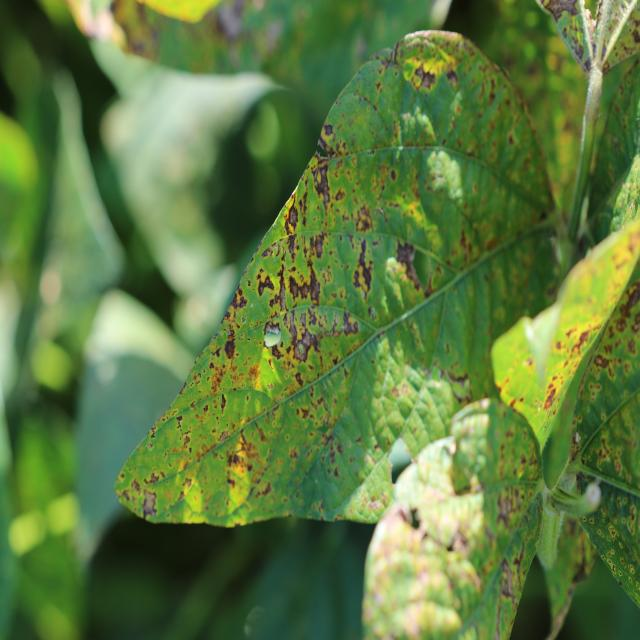Bacterial_Blight: (344, 248, 385, 315), (230, 423, 270, 490), (285, 306, 328, 368), (466, 230, 501, 278), (327, 422, 360, 465), (292, 232, 326, 273), (248, 351, 276, 399), (481, 74, 512, 108), (386, 153, 417, 187), (173, 410, 197, 448), (208, 357, 230, 395), (312, 159, 331, 202), (412, 62, 438, 90), (181, 467, 212, 490), (396, 239, 416, 271), (228, 284, 249, 312), (354, 204, 373, 233), (340, 310, 359, 336), (257, 271, 275, 298), (141, 489, 157, 519), (308, 269, 321, 303), (288, 276, 301, 303), (223, 337, 236, 361), (286, 206, 298, 232), (279, 277, 288, 311), (445, 67, 458, 86), (299, 281, 311, 301), (216, 429, 229, 443), (323, 123, 334, 137), (220, 393, 227, 414)
Soybean: (113, 30, 555, 529)
